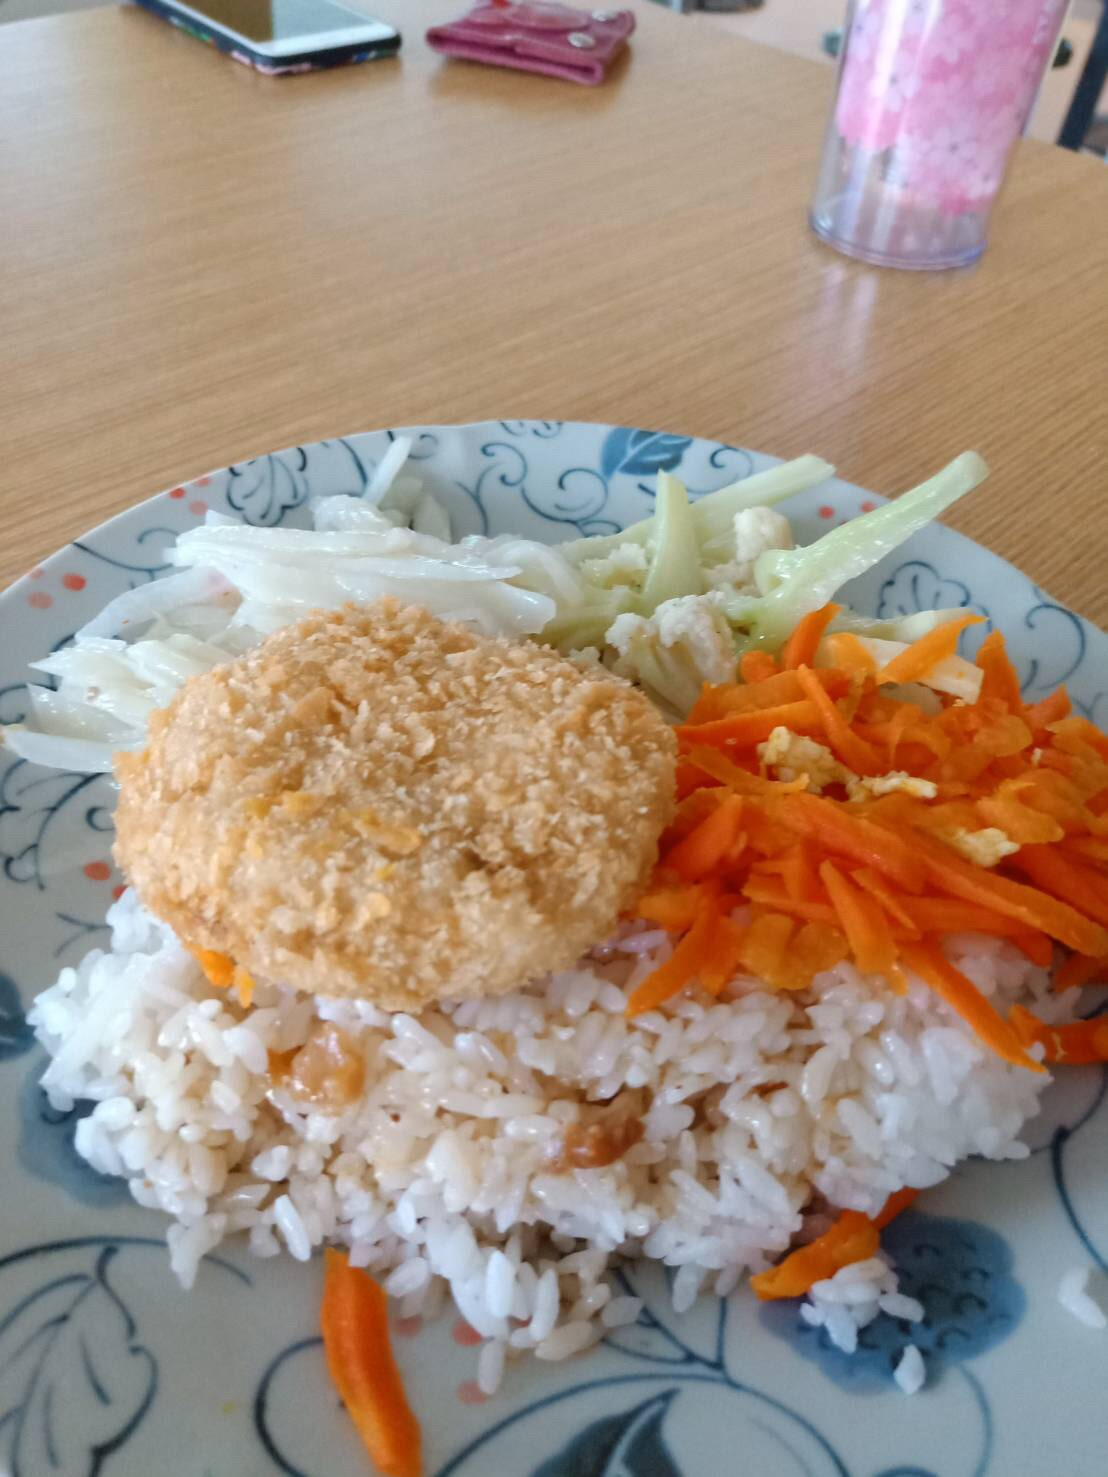carrot_eggs: (676, 654, 1108, 993)
fried_chicken: (113, 599, 681, 997)
rice: (47, 990, 979, 1261)
